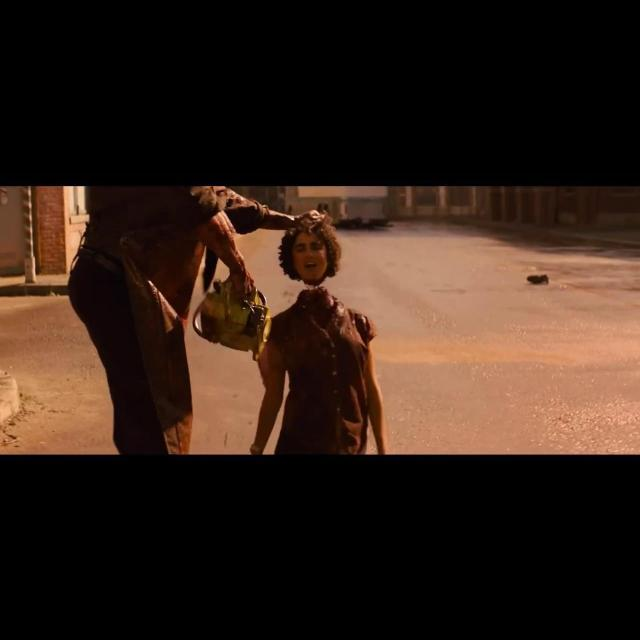blood: (276, 262, 374, 351), (197, 211, 254, 298), (159, 320, 192, 450), (191, 186, 270, 220), (176, 267, 194, 318)
